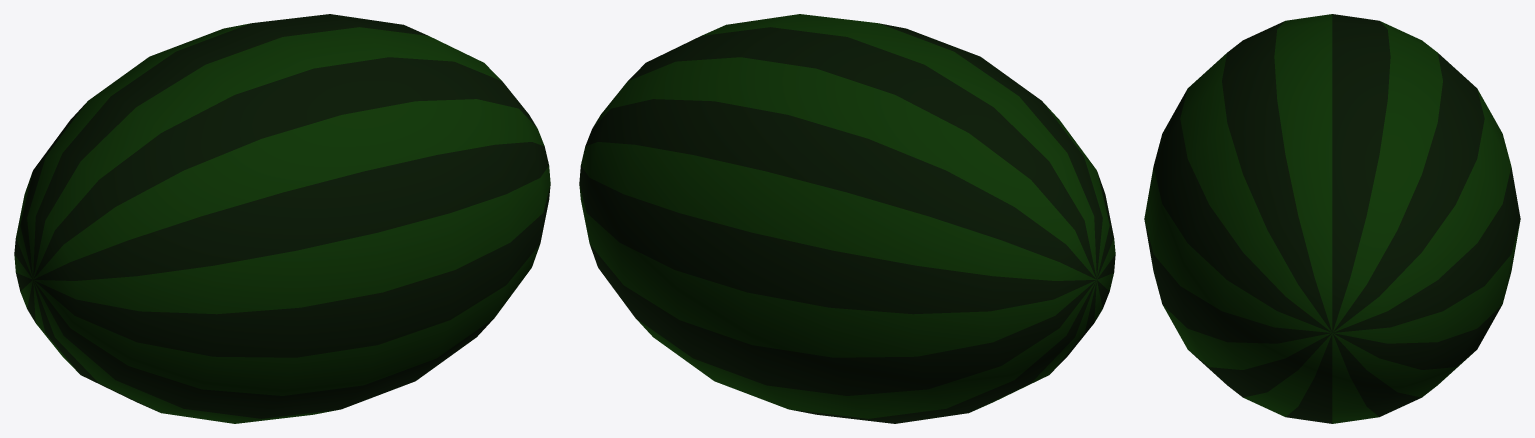
The model's file is Fruit_Watermelon.fbx.
3 views of the same model, side by side, from view 1: azimuth 30°, elevation 25°; view 2: azimuth 150°, elevation 25°; view 3: azimuth 270°, elevation 25° (orthographic). The views are drawn at different scales.
Visible parts, largest first — view 1: pSphere3; view 2: pSphere3; view 3: pSphere3.
Boxes of the visible parts, x1=… form: pSphere3: x1=14, y1=14, x2=550, y2=423; pSphere3: x1=579, y1=14, x2=1115, y2=423; pSphere3: x1=1144, y1=14, x2=1520, y2=423.
Bounding box in the file's own units: 1.04 × 0.728 × 0.728.
